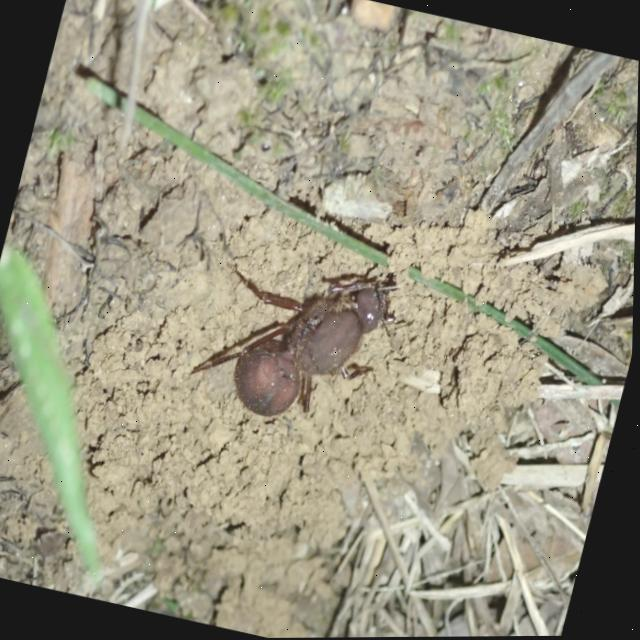Alive-Female-Dealate: (183, 239, 421, 444)
